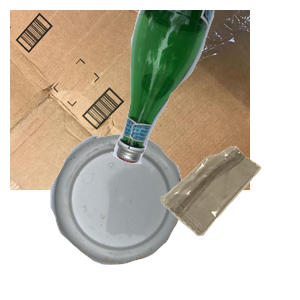cardboard: (10, 10, 250, 190)
glass: (109, 10, 300, 167)
plastic: (48, 132, 224, 300)
trash: (158, 144, 300, 300)
